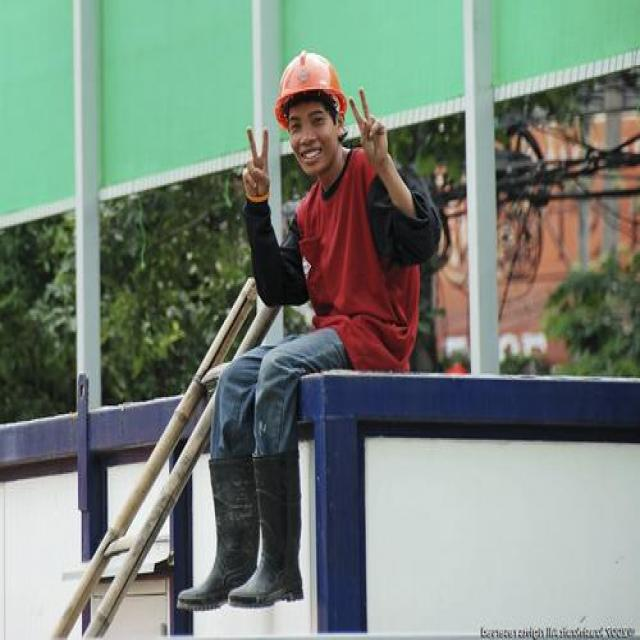Reflective-Jacket: (268, 147, 424, 356)
Safety-Helmet: (269, 43, 352, 121)
